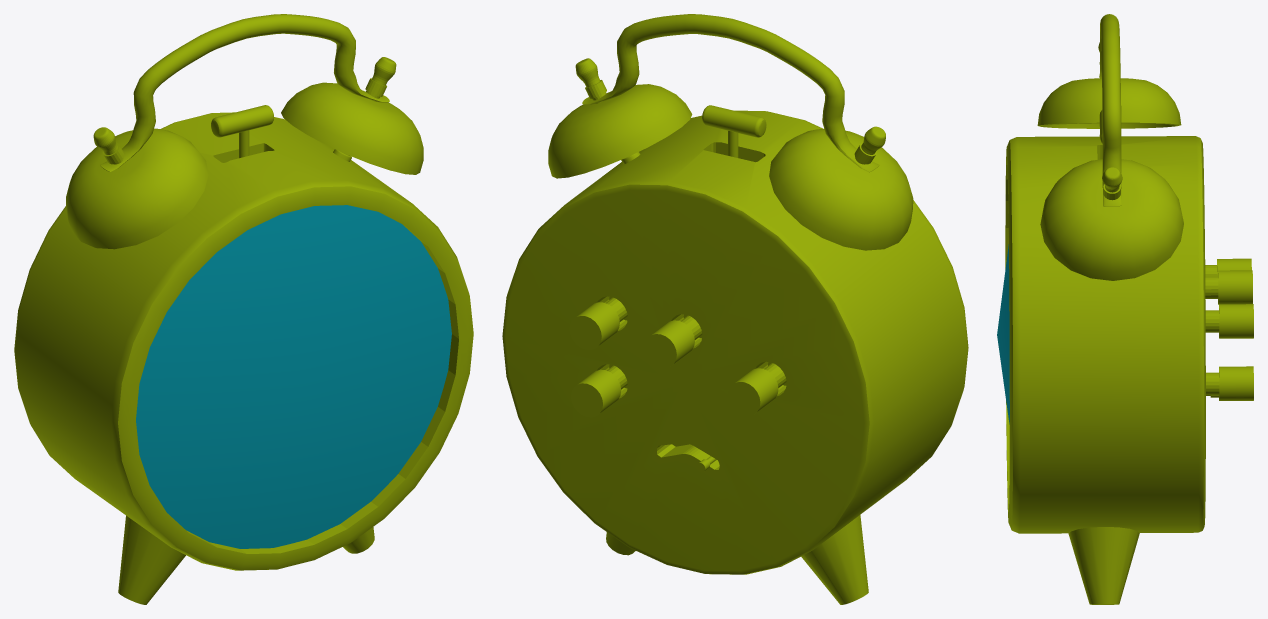
The model's file is relog.fbx.
The picture shows the model from 3 angles, left to right: view 1: azimuth 30°, elevation 25°; view 2: azimuth 150°, elevation 25°; view 3: azimuth 270°, elevation 25°; orthographic projection. The views are drawn at different scales.
Parts seen in each view (by area): view 1: cuerpo, vidiro; view 2: cuerpo; view 3: cuerpo, vidiro.
Part boxes in pixels (bbox=[...]): cuerpo: bbox=[14, 14, 473, 604]; vidiro: bbox=[136, 205, 451, 548]; cuerpo: bbox=[502, 14, 968, 604]; cuerpo: bbox=[1005, 14, 1253, 604]; vidiro: bbox=[997, 244, 1009, 424].
Bounding box in the file's own units: 0.4472 × 0.6475 × 0.287.
